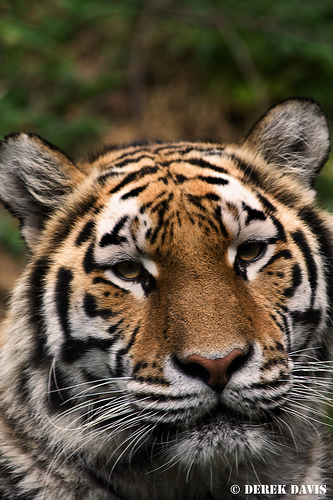Tigre: (14, 113, 323, 455)
